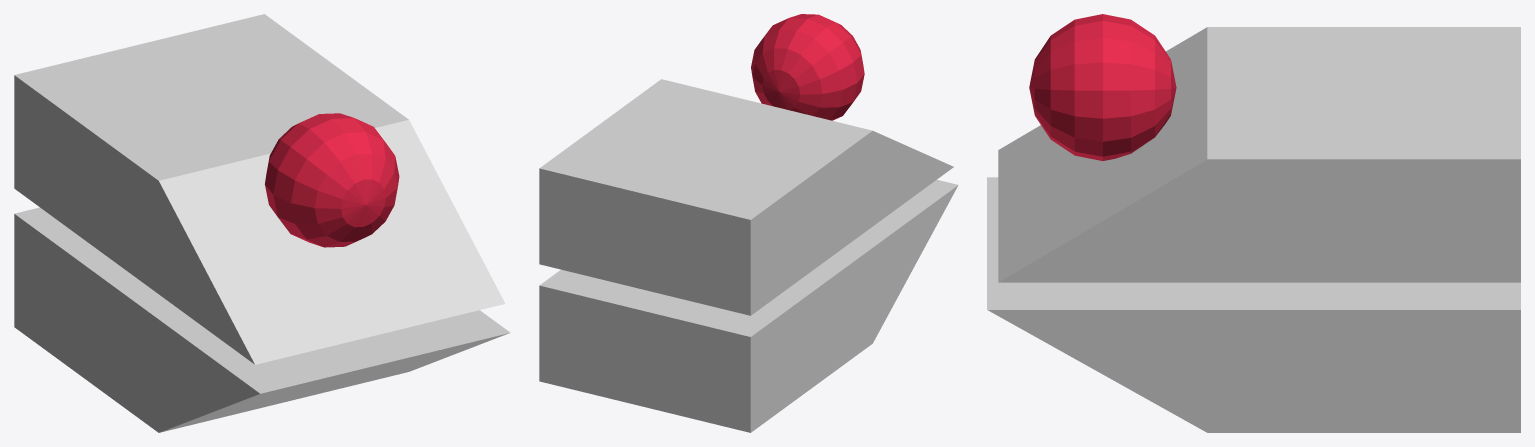
The model's file is Monster_Snake.fbx.
The picture shows the model from 3 angles, left to right: view 1: azimuth 30°, elevation 25°; view 2: azimuth 150°, elevation 25°; view 3: azimuth 270°, elevation 25°; orthographic projection. The views are drawn at different scales.
Visible parts, largest first — view 1: Cube.002; view 2: Cube.002; view 3: Cube.002.
Part boxes in pixels (left/top/right/bottom): Cube.002: left=14, top=14, right=510, bottom=432; Cube.002: left=539, top=14, right=958, bottom=432; Cube.002: left=987, top=14, right=1520, bottom=432.
Bounding box in the file's own units: 200 × 243 × 341.
